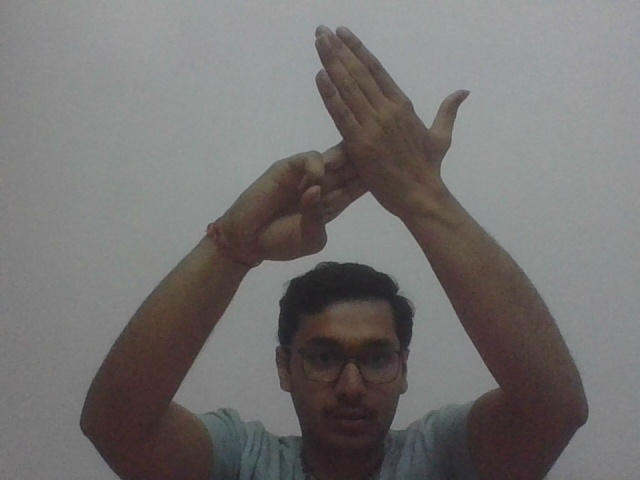M: (265, 16, 466, 265)
